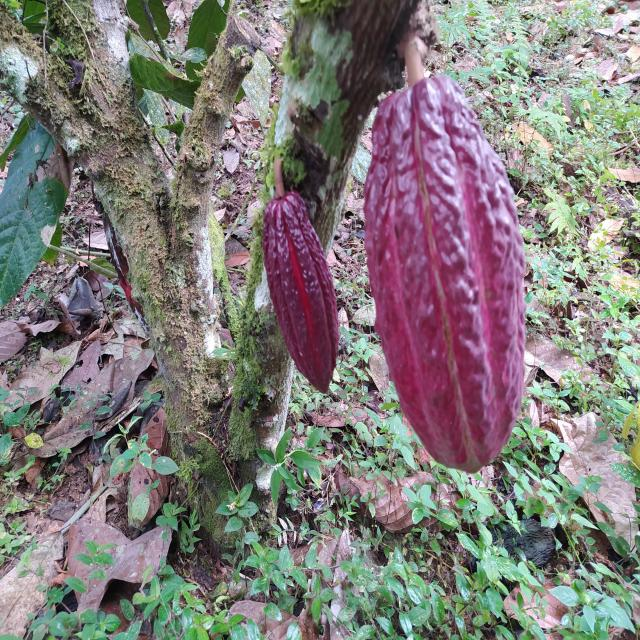Sana: (366, 74, 527, 476), (262, 192, 340, 397)
